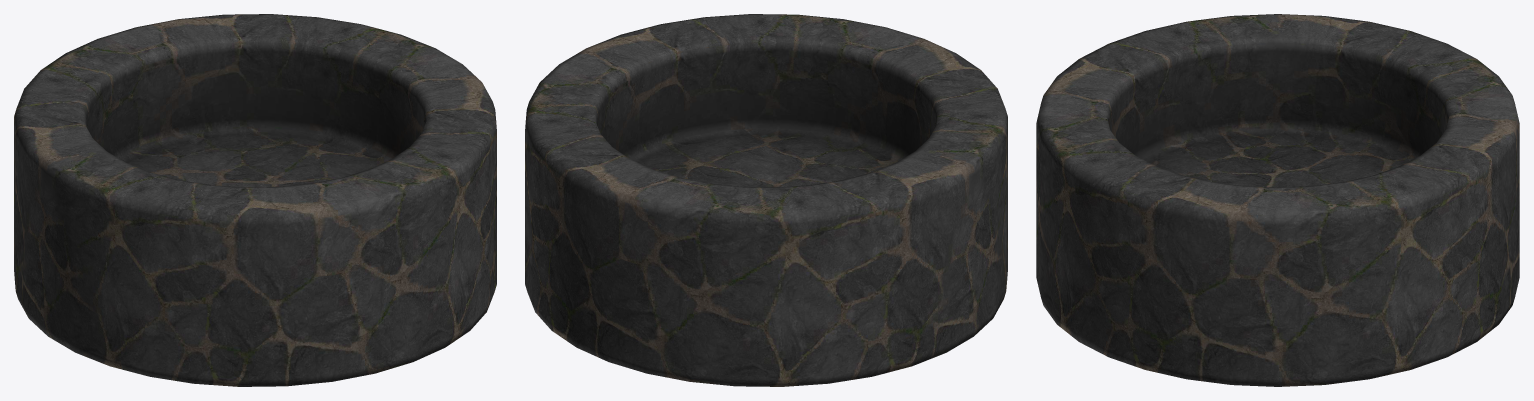
The model's file is Fireplace.glb.
The picture shows the model from 3 angles, left to right: view 1: azimuth 30°, elevation 25°; view 2: azimuth 150°, elevation 25°; view 3: azimuth 270°, elevation 25°; orthographic projection.
Parts seen in each view (by area): view 1: Fireplace; view 2: Fireplace; view 3: Fireplace.
Part boxes in pixels (<box>): Fireplace: <box>14,14,496,386</box>; Fireplace: <box>525,14,1007,386</box>; Fireplace: <box>1036,14,1519,386</box>.
Size of the model in its own units: 2 by 0.8 by 2.
Materials: 1 (1 with a texture image).
